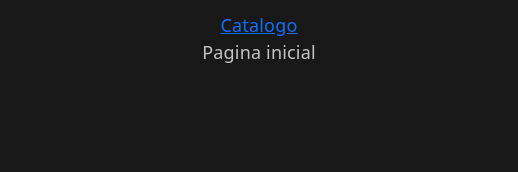
Test case: Molecula Navbar › NAV-02: navega al destino al hacer clic
The width and height of the screenshot is (518, 172).
Click the link "Catalogo".
click(259, 25)  # box [220,13,298,37]
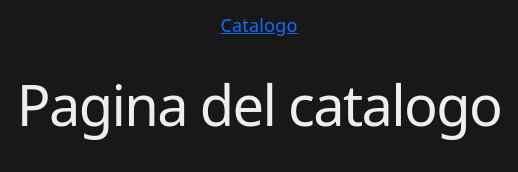
Expected: the heading "Pagina del catalogo" is shown, [17,66,501,142]
